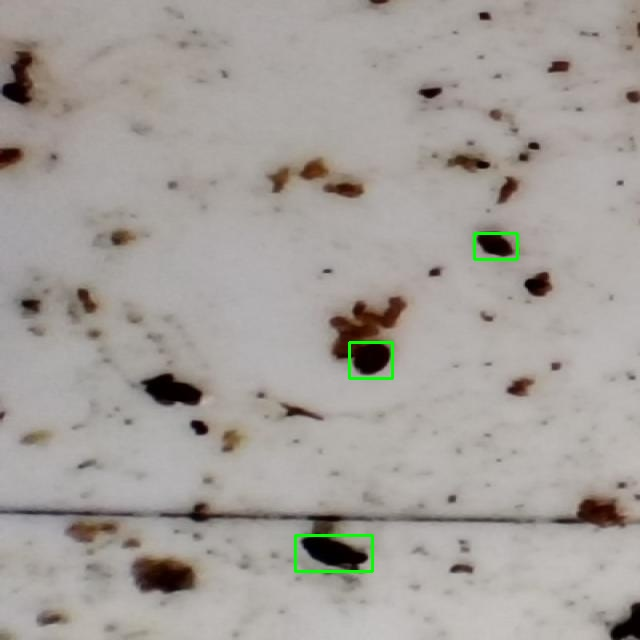varroa: (295, 535, 372, 571), (349, 342, 392, 378), (474, 233, 517, 259)
